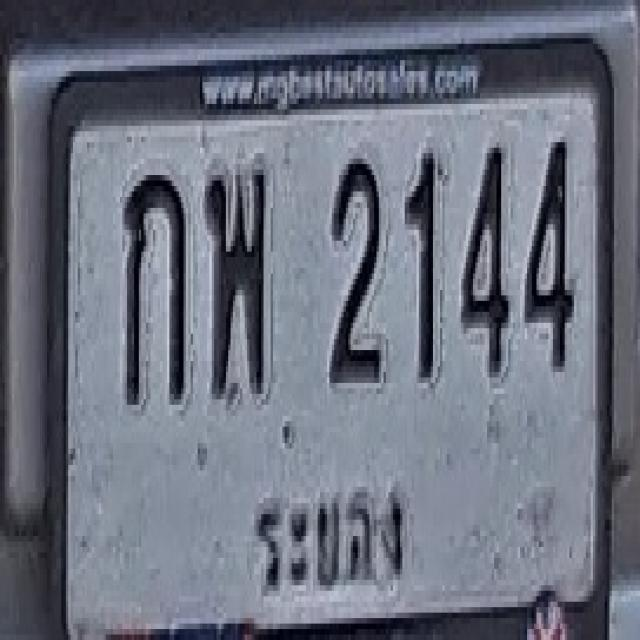1: (406, 148, 439, 377)
2: (329, 153, 382, 383)
4: (525, 137, 574, 366), (461, 142, 508, 372)
A01: (124, 170, 184, 404)
A30: (205, 162, 266, 396)
RYG: (247, 474, 411, 608)
